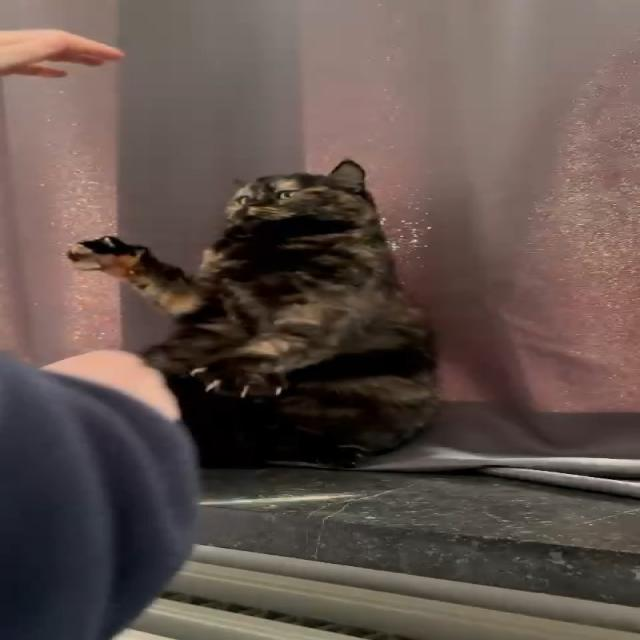authorized: (64, 158, 441, 468)
